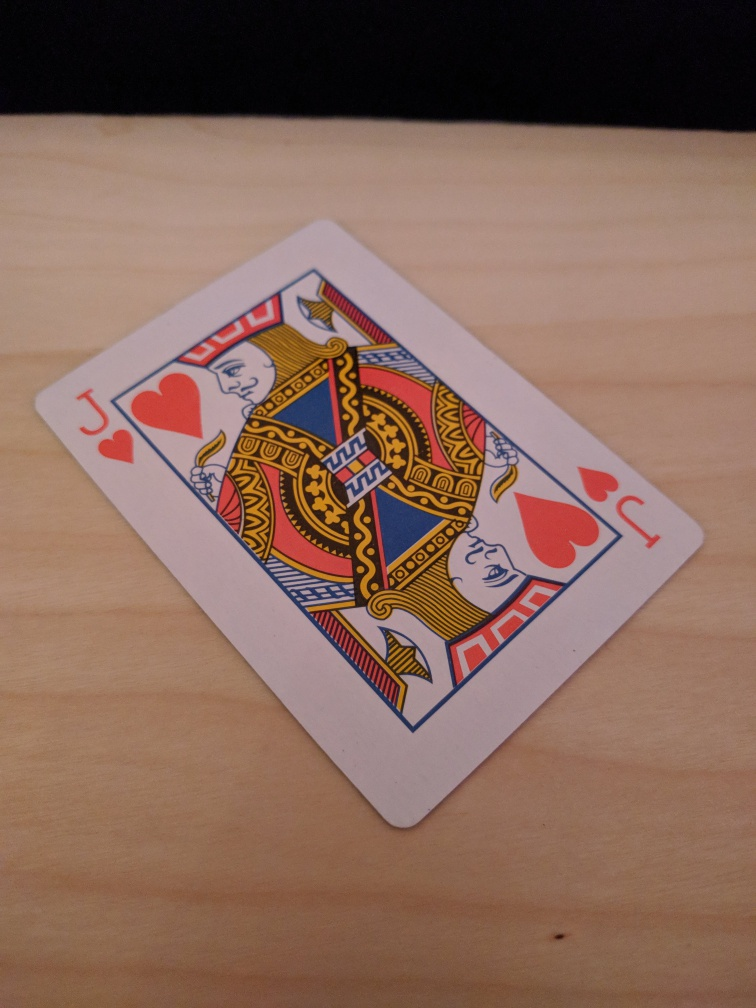jack: (31, 218, 707, 831)
